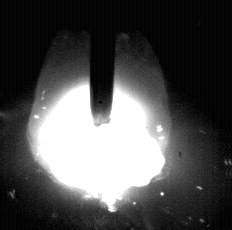arame: (91, 0, 114, 126)
poca: (25, 0, 171, 230)
